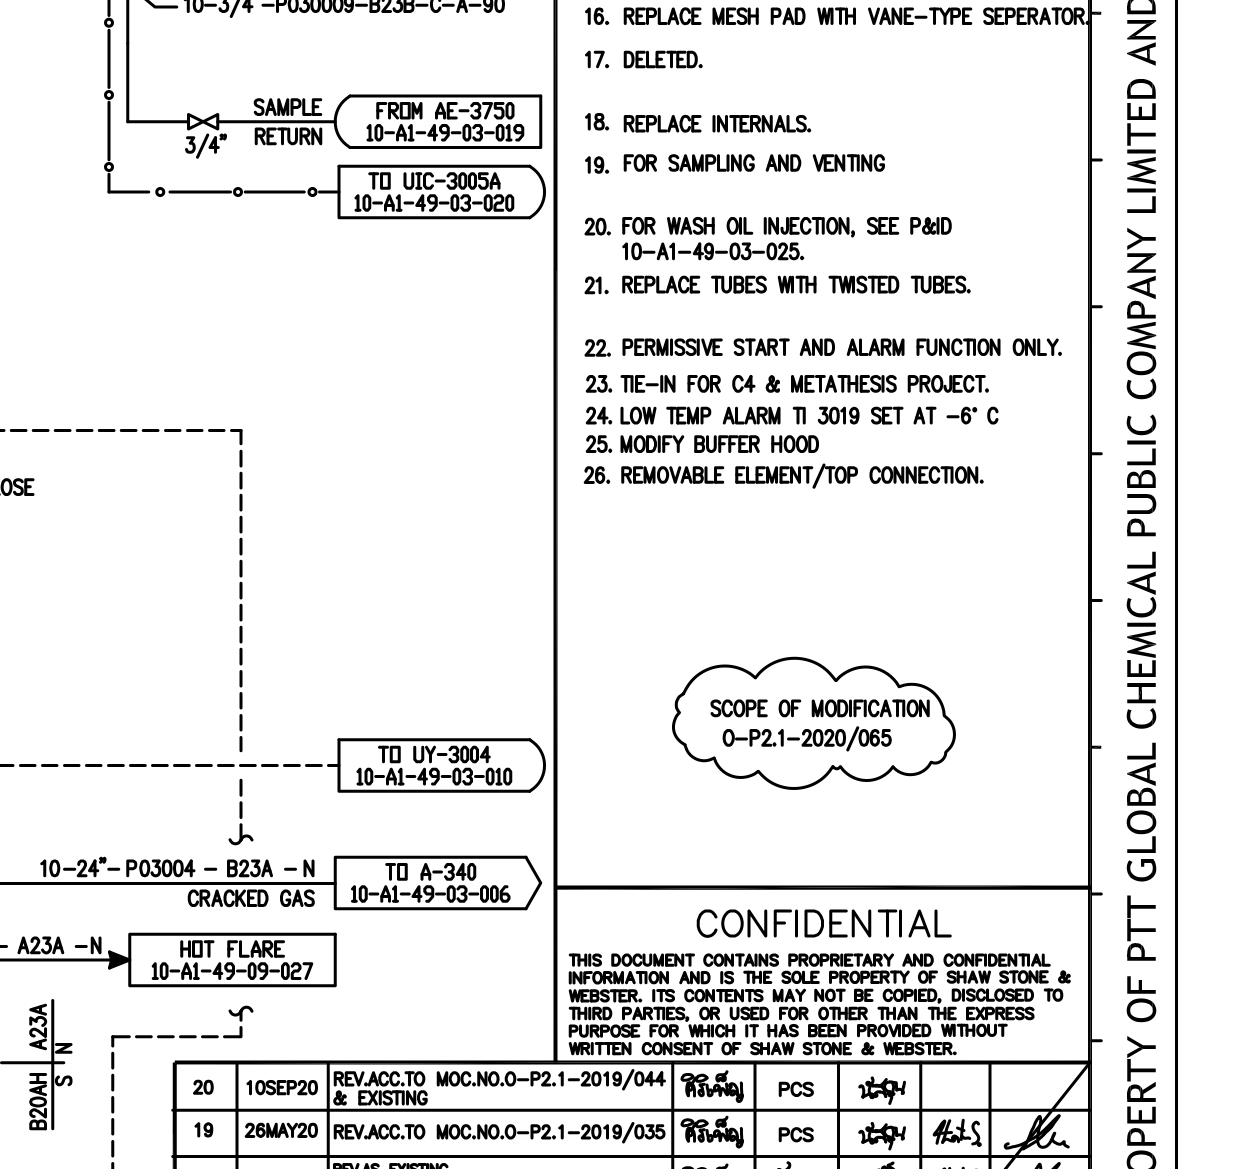Page Out: (321, 849, 548, 917)
